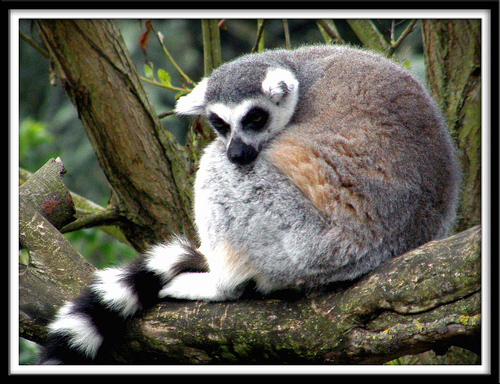cat: (32, 40, 470, 365)
